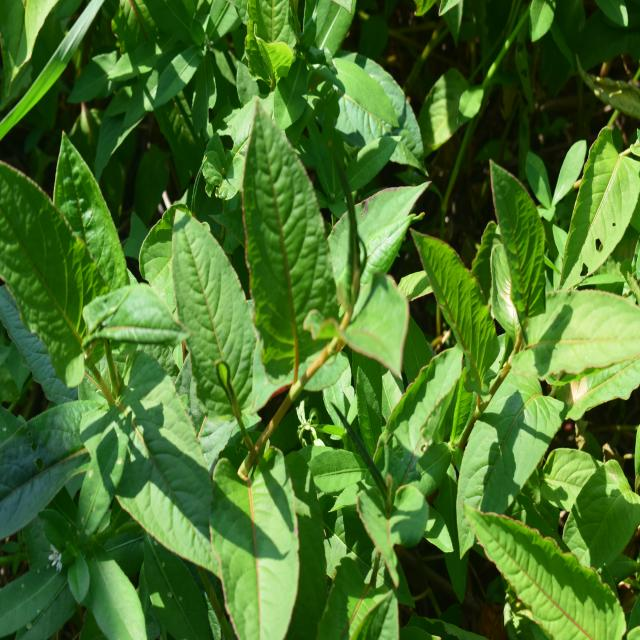Chinese_knotweed: (170, 115, 416, 412)
